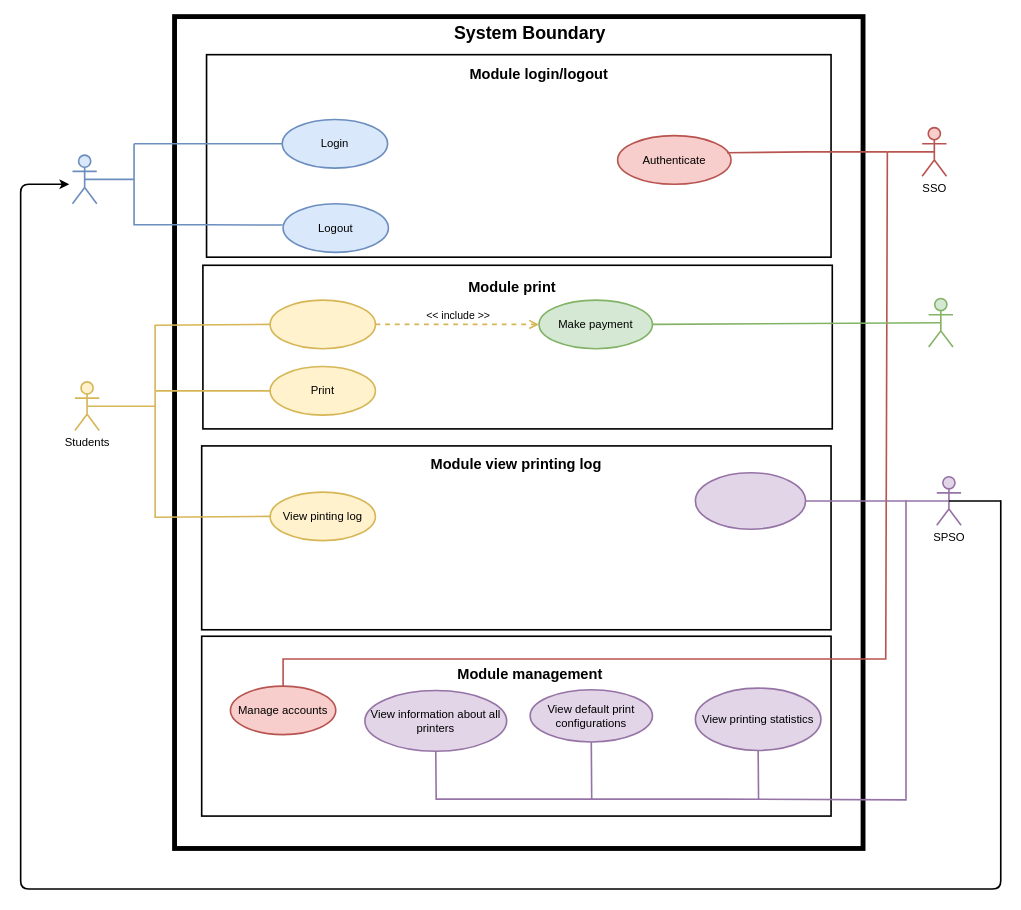
Image size: 1021x910. Some labels were removed from this diagram. The shapes that lost their labels are listed below. From the top down, each one's box as (x1, y1, x2, y2) in pixels, then its label:
(71, 154, 97, 204): User
(269, 299, 376, 349): View page balance
(927, 297, 953, 347): Online Payment Provider
(694, 472, 806, 530): View printing log of all students
